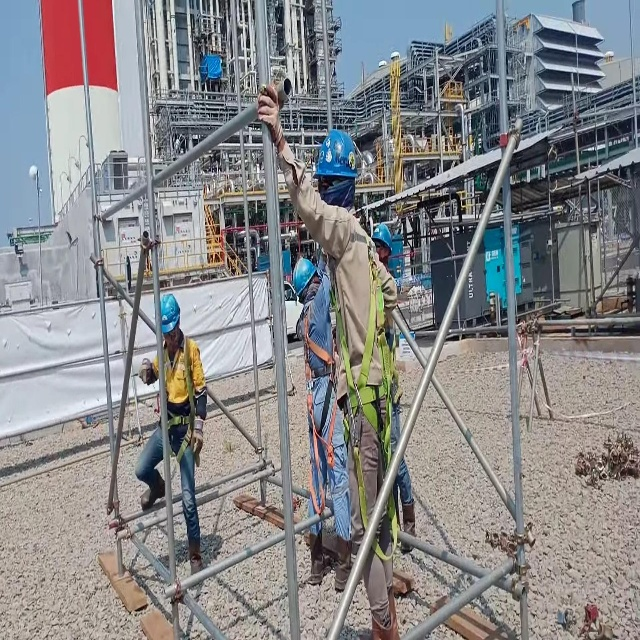Arnes_seguridad: (328, 239, 400, 562), (297, 296, 342, 511), (159, 332, 195, 466)
